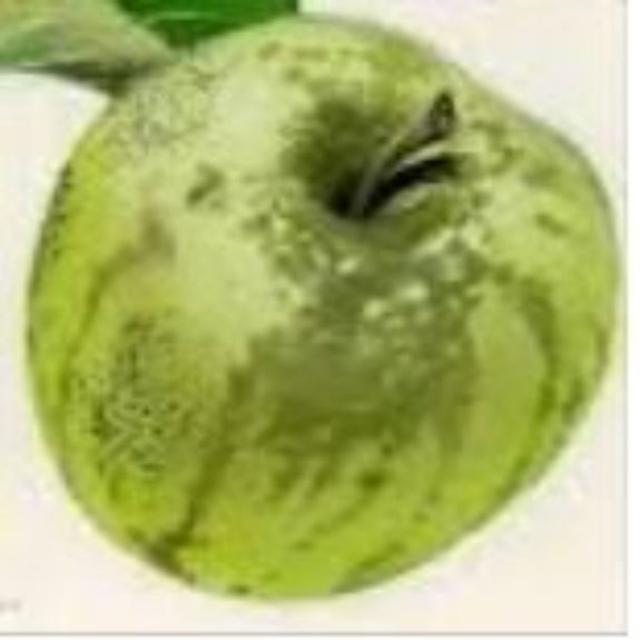Rotten Apple: (42, 13, 605, 594)
